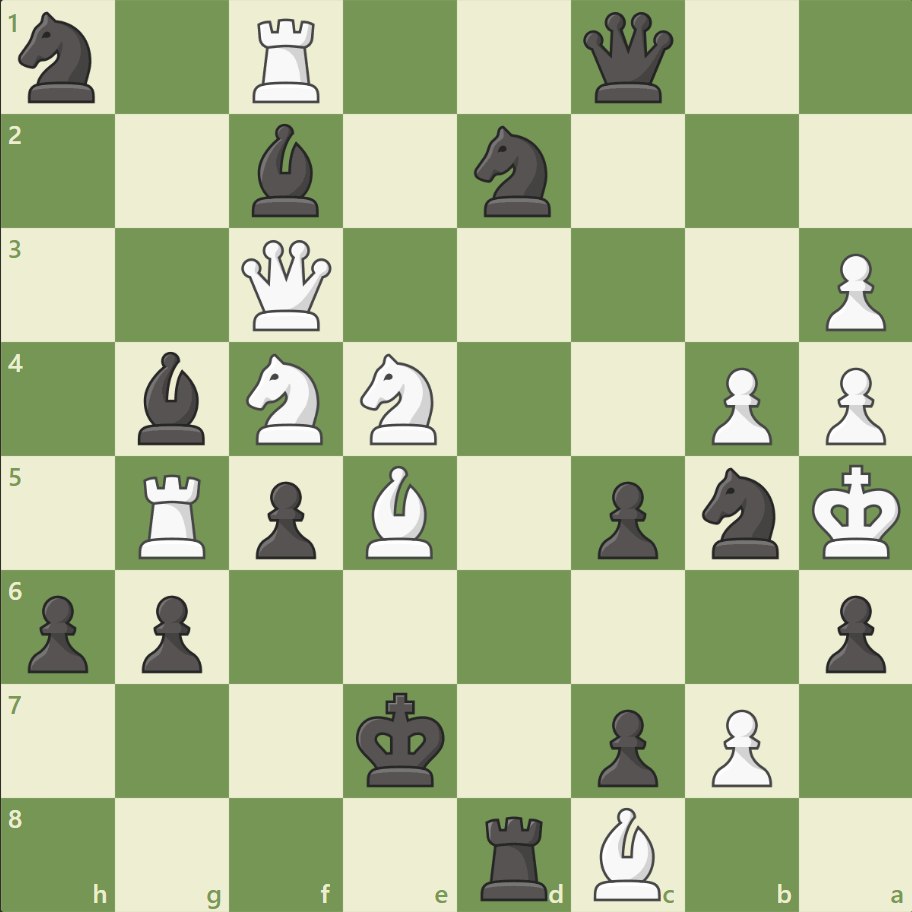B: (585, 801, 669, 904), (358, 460, 442, 563)
K: (806, 458, 906, 566)
N: (351, 348, 449, 450), (238, 348, 335, 450)
P: (701, 700, 776, 791), (701, 359, 776, 450), (815, 359, 889, 450), (815, 246, 889, 337)
Q: (237, 236, 336, 335)
R: (246, 12, 329, 109), (133, 466, 215, 563)
b: (131, 347, 215, 449), (244, 120, 328, 222)
k: (351, 685, 451, 793)
n: (692, 461, 789, 564), (11, 7, 108, 110), (465, 121, 562, 223)
p: (133, 586, 208, 677), (20, 586, 95, 677), (247, 473, 322, 564), (588, 700, 662, 791), (815, 586, 889, 677), (588, 473, 662, 564)
q: (578, 9, 677, 108)
r: (473, 806, 556, 904)
